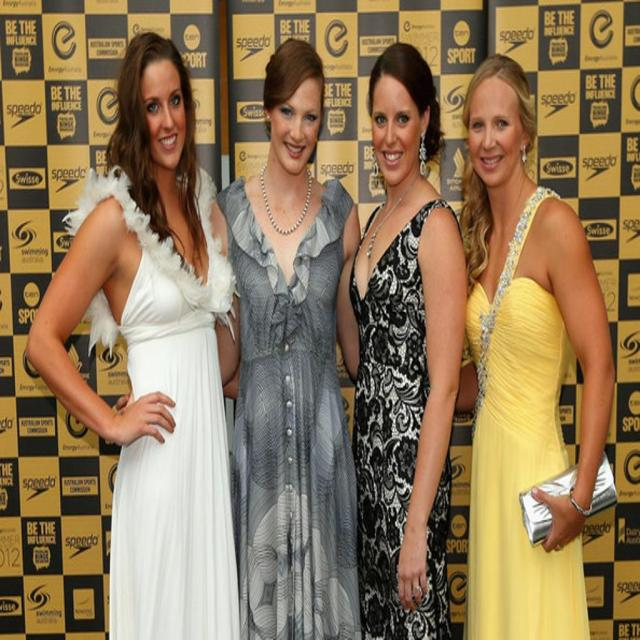Face: (362, 67, 437, 183), (461, 74, 529, 194), (138, 57, 193, 174), (264, 76, 326, 169)
